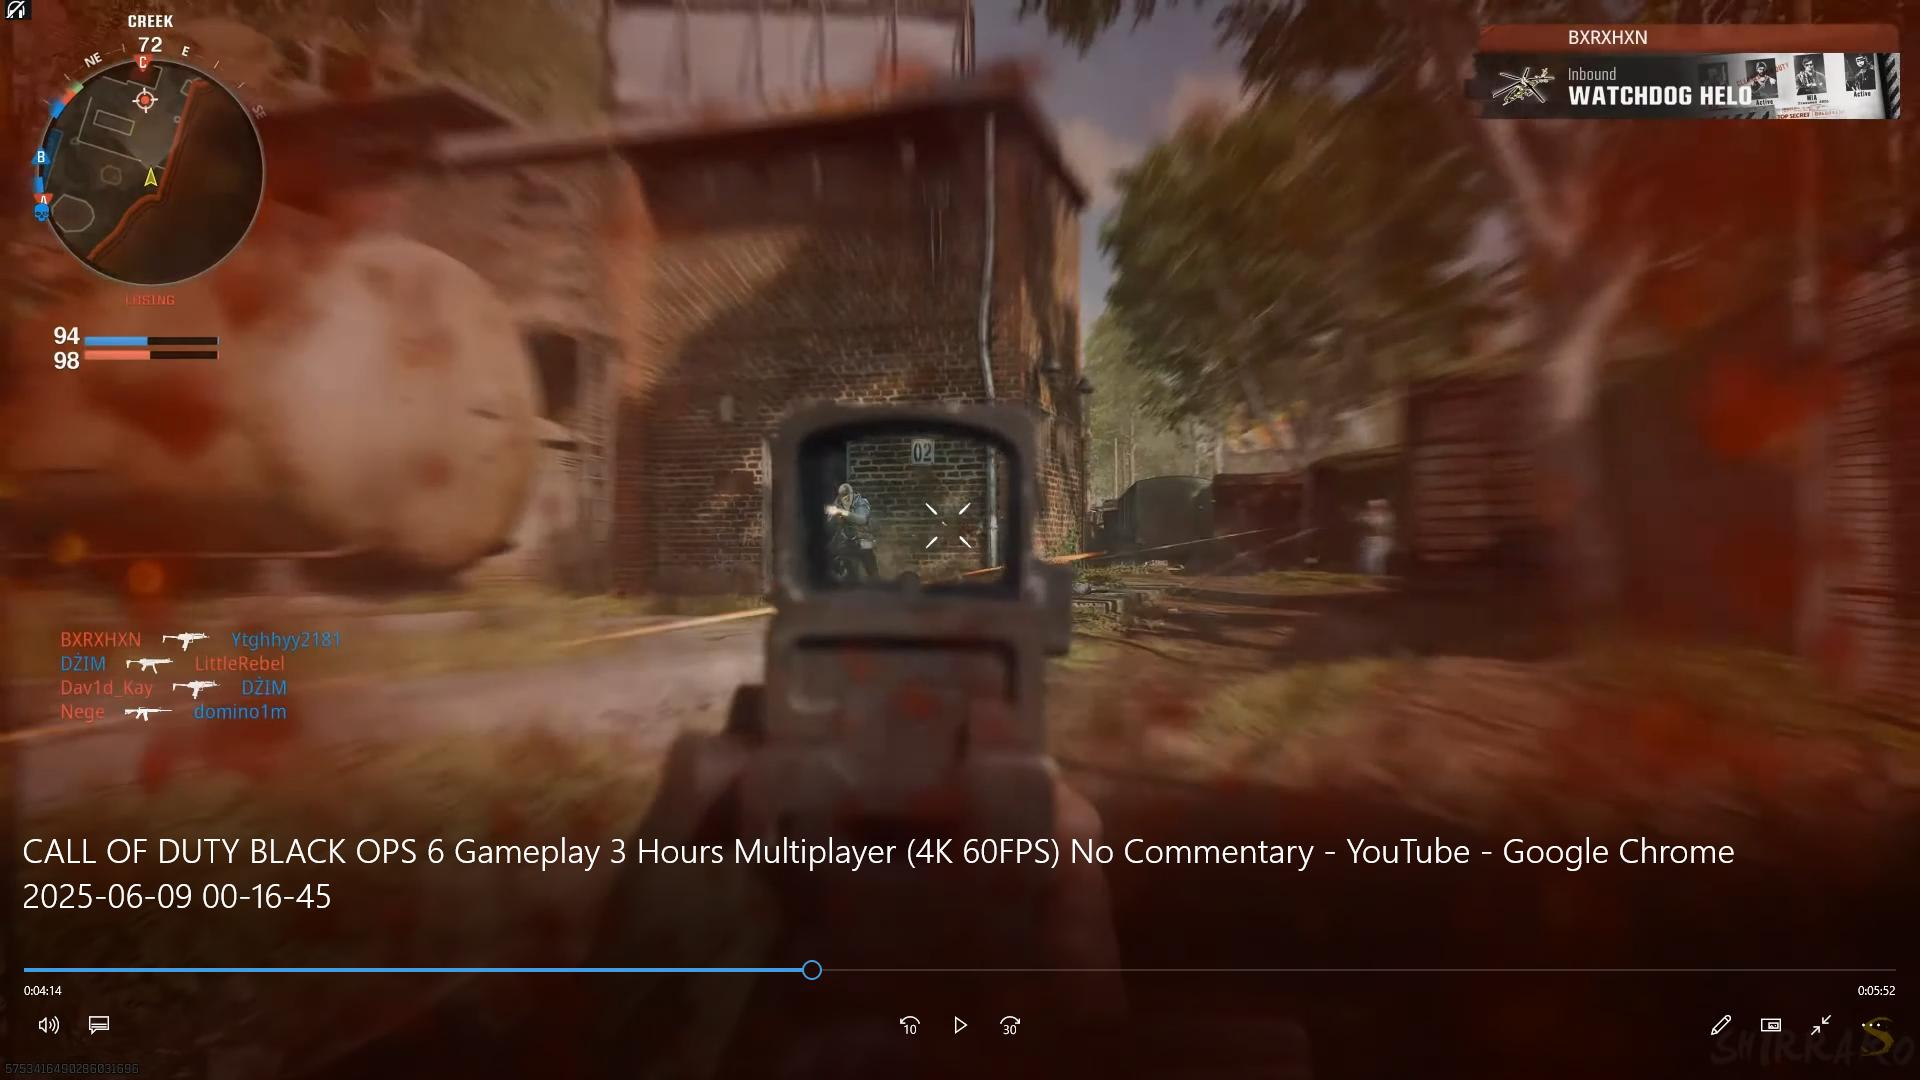Enemy: (816, 477, 887, 584), (1357, 493, 1395, 576)
